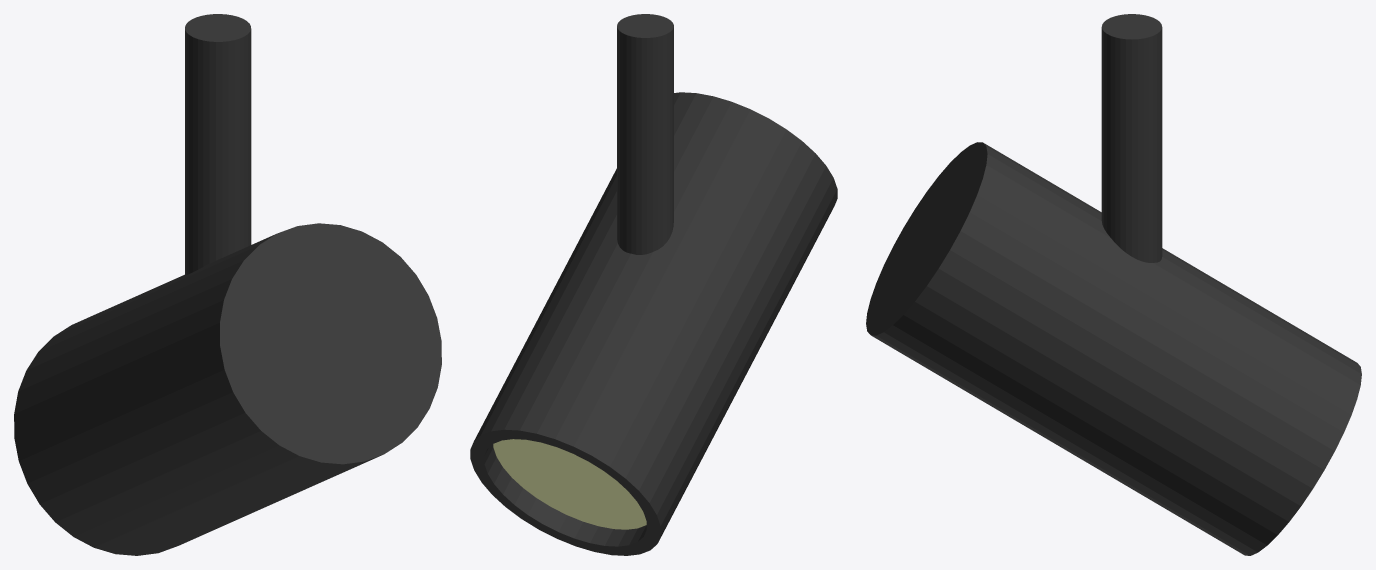
File: SM_Build_Deckenstrahler_Schiene_Einzel.fbx
3 views of the same model, side by side, from view 1: azimuth 30°, elevation 25°; view 2: azimuth 150°, elevation 25°; view 3: azimuth 270°, elevation 25° (orthographic). The views are drawn at different scales.
Parts seen in each view (by area): view 1: Deckenstrahler Schiene Einzel; view 2: Deckenstrahler Schiene Einzel; view 3: Deckenstrahler Schiene Einzel.
Boxes of the visible parts, x1=… form: Deckenstrahler Schiene Einzel: x1=14, y1=14, x2=441, y2=555; Deckenstrahler Schiene Einzel: x1=470, y1=14, x2=837, y2=555; Deckenstrahler Schiene Einzel: x1=866, y1=14, x2=1361, y2=555.
Bounding box in the file's own units: 0.1 × 0.2557 × 0.2222.
